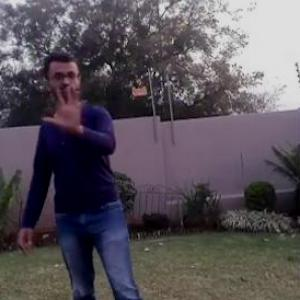follow_hand: (44, 84, 92, 132)
